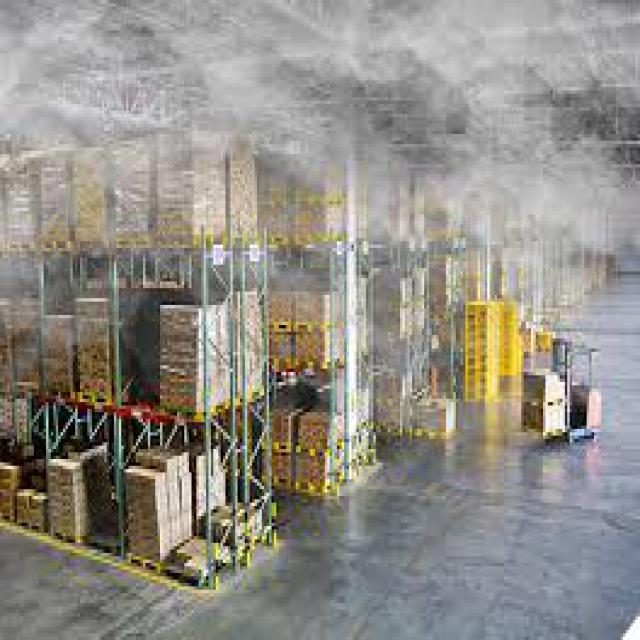smoke: (2, 10, 628, 295)
